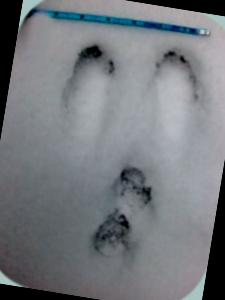lapin: (29, 29, 94, 139), (117, 43, 172, 155), (57, 154, 110, 206), (74, 206, 121, 264)
